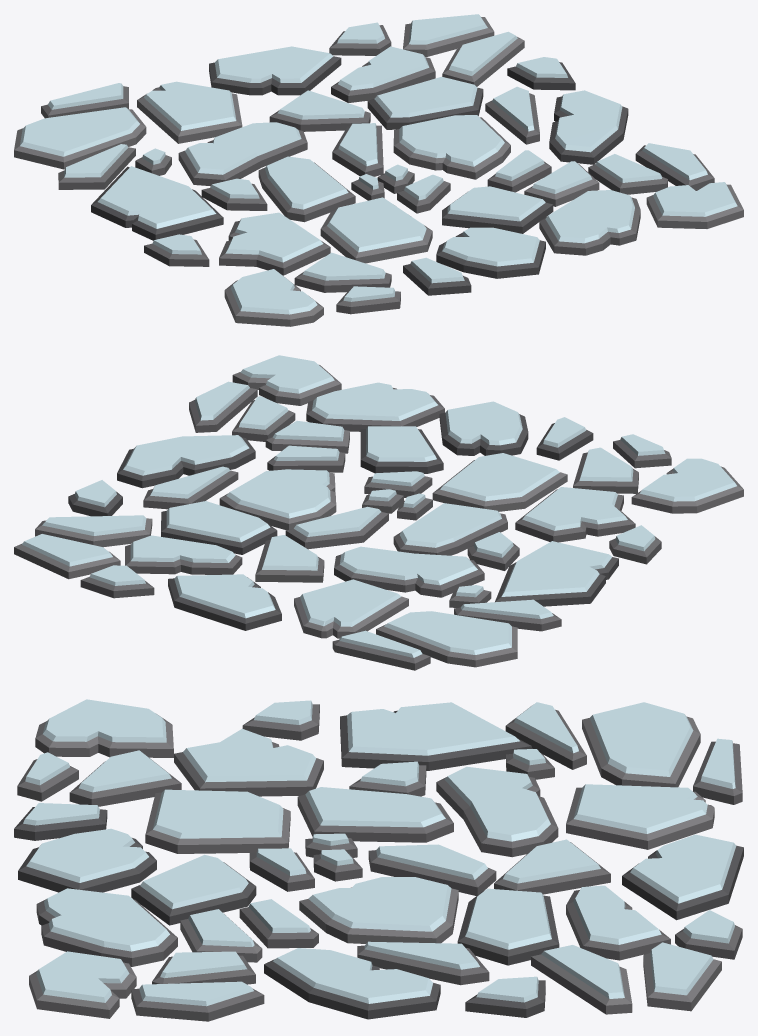
Rendered from SM_Env_Path_Stone_01_Snow.gltf.
3 views of the same model, one above another, from view 1: azimuth 30°, elevation 25°; view 2: azimuth 150°, elevation 25°; view 3: azimuth 270°, elevation 25° (orthographic). The views are drawn at different scales.
Visible parts, largest first — view 1: SM_Env_Path_Stone_01_Snow; view 2: SM_Env_Path_Stone_01_Snow; view 3: SM_Env_Path_Stone_01_Snow.
Boxes of the visible parts, <box> form: SM_Env_Path_Stone_01_Snow: <box>14,14,743,326</box>; SM_Env_Path_Stone_01_Snow: <box>14,355,743,670</box>; SM_Env_Path_Stone_01_Snow: <box>14,699,743,1021</box>.
Bounding box in the file's own units: 2.91 × 0.0739 × 2.89.
1 material, 1 textured.
